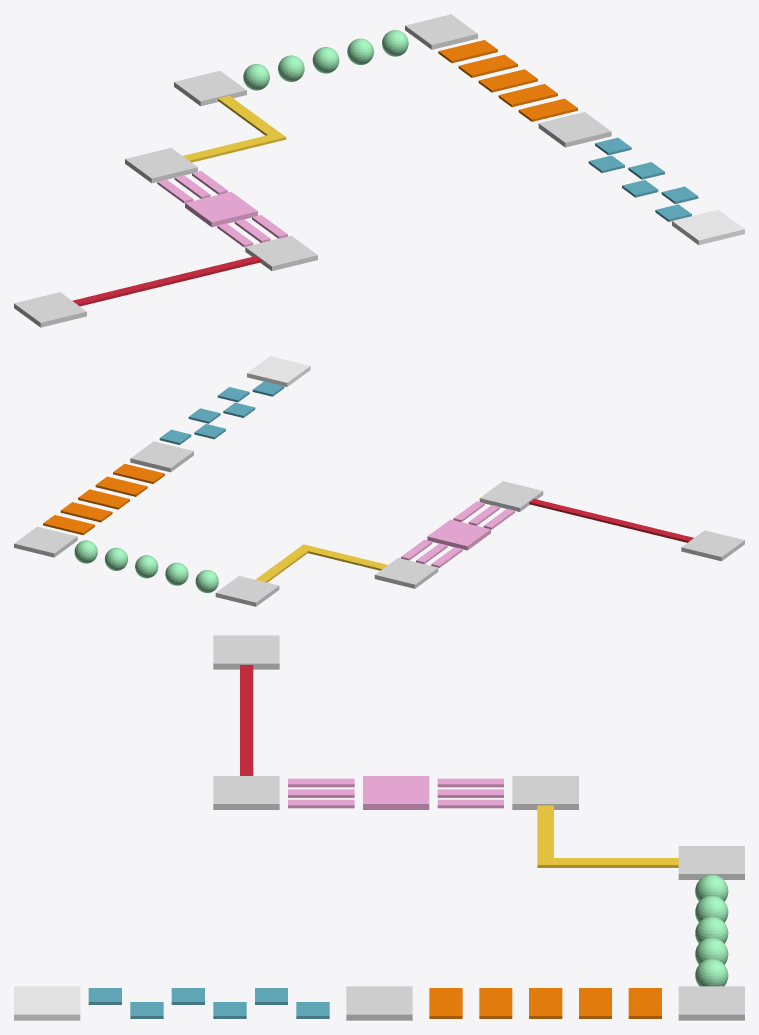
The model's file is map.glb.
The picture shows the model from 3 angles, top to bottom: view 1: azimuth 30°, elevation 25°; view 2: azimuth 150°, elevation 25°; view 3: azimuth 270°, elevation 25°; orthographic projection. The views are drawn at different scales.
Visible parts, largest first — view 1: ground_2, ground_5, ground_3, ground_1, ground_4, checkpoint_1, checkpoint_2, checkpoint_6, start, checkpoint_4, checkpoint_5, checkpoint_3 (+1 smaller); view 2: ground_2, ground_5, ground_3, ground_1, ground_4, checkpoint_3, checkpoint_4, checkpoint_2, checkpoint_1, checkpoint_6, start, checkpoint_5 (+1 smaller); view 3: ground_5, ground_2, ground_1, ground_3, start, checkpoint_1, checkpoint_2, ground_4, checkpoint_6, checkpoint_5, checkpoint_4, checkpoint_3 (+1 smaller).
Boxes of the visible parts, box(x1,y1,x2,y2) form: ground_2: box(438, 40, 577, 121); ground_5: box(157, 171, 287, 247); ground_3: box(243, 30, 408, 90); ground_1: box(588, 137, 698, 221); ground_4: box(183, 95, 286, 162); checkpoint_1: box(538, 112, 611, 147); checkpoint_2: box(405, 14, 477, 49); checkpoint_6: box(14, 292, 86, 327); start: box(672, 209, 744, 244); checkpoint_4: box(125, 148, 197, 183); checkpoint_5: box(245, 235, 317, 271); checkpoint_3: box(174, 70, 246, 106); ground_2: box(43, 463, 164, 535); ground_5: box(401, 501, 514, 567); ground_3: box(74, 540, 218, 592); ground_1: box(159, 381, 284, 444); ground_4: box(255, 544, 387, 582); checkpoint_3: box(215, 576, 279, 606); checkpoint_4: box(374, 558, 438, 588); checkpoint_2: box(14, 526, 77, 557); checkpoint_1: box(130, 441, 193, 472); checkpoint_6: box(681, 530, 744, 561); start: box(247, 356, 310, 386); checkpoint_5: box(479, 481, 543, 511); ground_5: box(288, 776, 503, 809); ground_2: box(429, 988, 661, 1018); ground_1: box(88, 988, 329, 1018); ground_3: box(695, 874, 728, 986); start: box(14, 986, 80, 1020); checkpoint_1: box(346, 986, 412, 1020); checkpoint_2: box(678, 986, 744, 1020); ground_4: box(537, 805, 678, 867); checkpoint_6: box(213, 635, 279, 669); checkpoint_5: box(213, 776, 279, 809); checkpoint_4: box(512, 776, 578, 809); checkpoint_3: box(678, 846, 744, 879).
Bounding box in the file's own units: 27 × 1 × 22.
